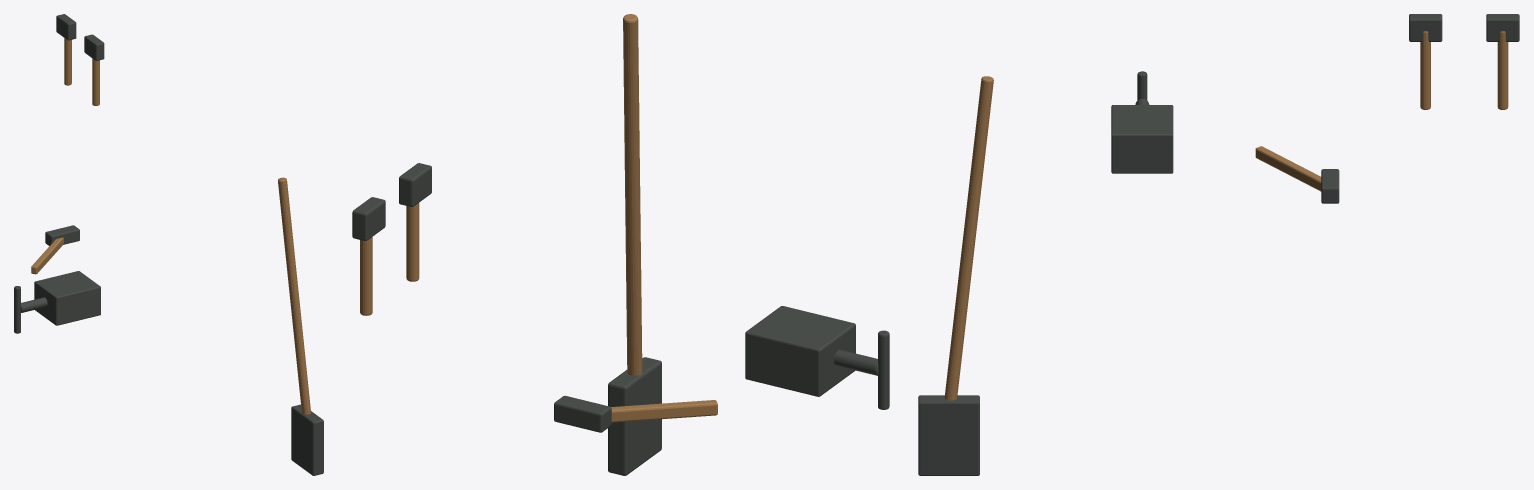
File: SM_PlayerHouse_Tools.fbx
3 renders of one model, left to right at view 1: azimuth 30°, elevation 25°; view 2: azimuth 150°, elevation 25°; view 3: azimuth 270°, elevation 25°, orthographic. The views are drawn at different scales.
Visible parts, largest first — view 1: SM_PlayerHouse_Tools; view 2: SM_PlayerHouse_Tools; view 3: SM_PlayerHouse_Tools.
Boxes of the visible parts, x1,y1,x2,y2 form: SM_PlayerHouse_Tools: (14, 14, 323, 475); SM_PlayerHouse_Tools: (352, 14, 889, 475); SM_PlayerHouse_Tools: (918, 14, 1519, 475).
Bounding box in the file's own units: 141 × 234 × 184.
